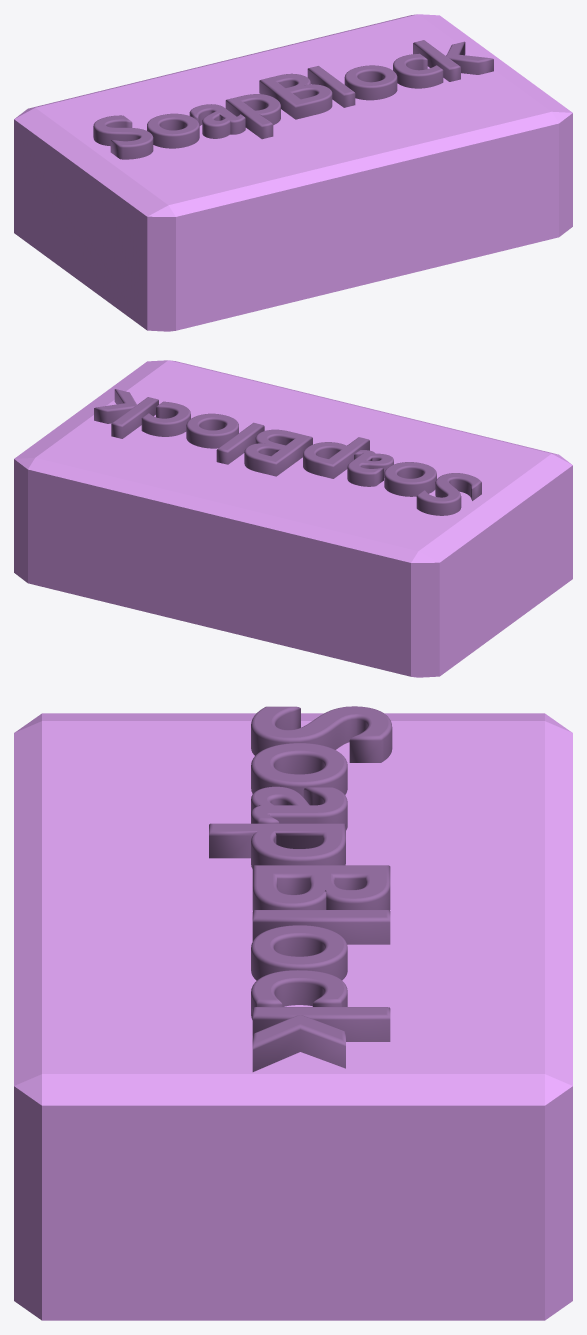
Rendered from PurpleSoap.fbx.
3 views of the same model, one above another, from view 1: azimuth 30°, elevation 25°; view 2: azimuth 150°, elevation 25°; view 3: azimuth 270°, elevation 25° (orthographic). The views are drawn at different scales.
Visible parts, largest first — view 1: Cube, Text; view 2: Cube, Text; view 3: Cube, Text.
Part boxes in pixels (<box>): Cube: <box>14,14,572,331</box>; Text: <box>93,40,493,159</box>; Cube: <box>14,360,572,677</box>; Text: <box>94,389,481,515</box>; Cube: <box>14,713,572,1320</box>; Text: <box>209,706,392,1071</box>.
Size of the model in its own units: 487 by 153 by 293.
